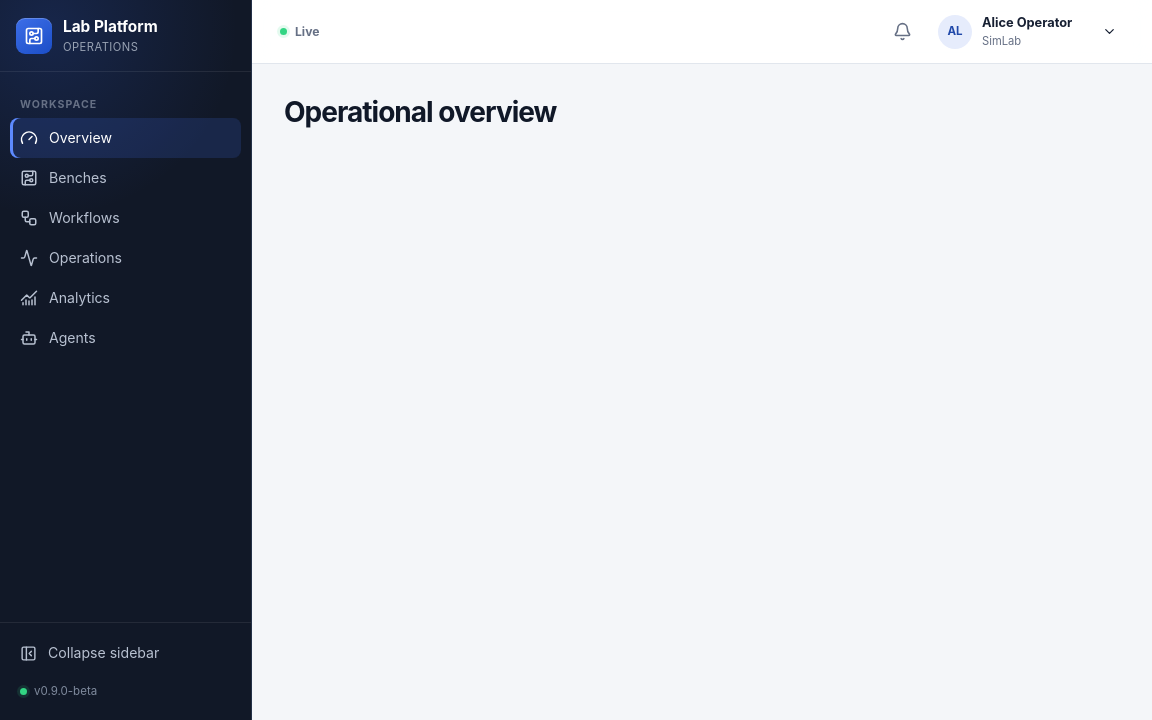
Test case: core workflow accessibility acceptance › exposes shell landmarks, a skip link, permission-aware navigation, and live status
Expected: the navigation bar is shown, [10,98,241,347]
Expected: the link "Benches" is shown, [20,169,107,187]
Click the button "AL Alice Operator SimLab".
click(1028, 32)  # box [931,9,1124,54]
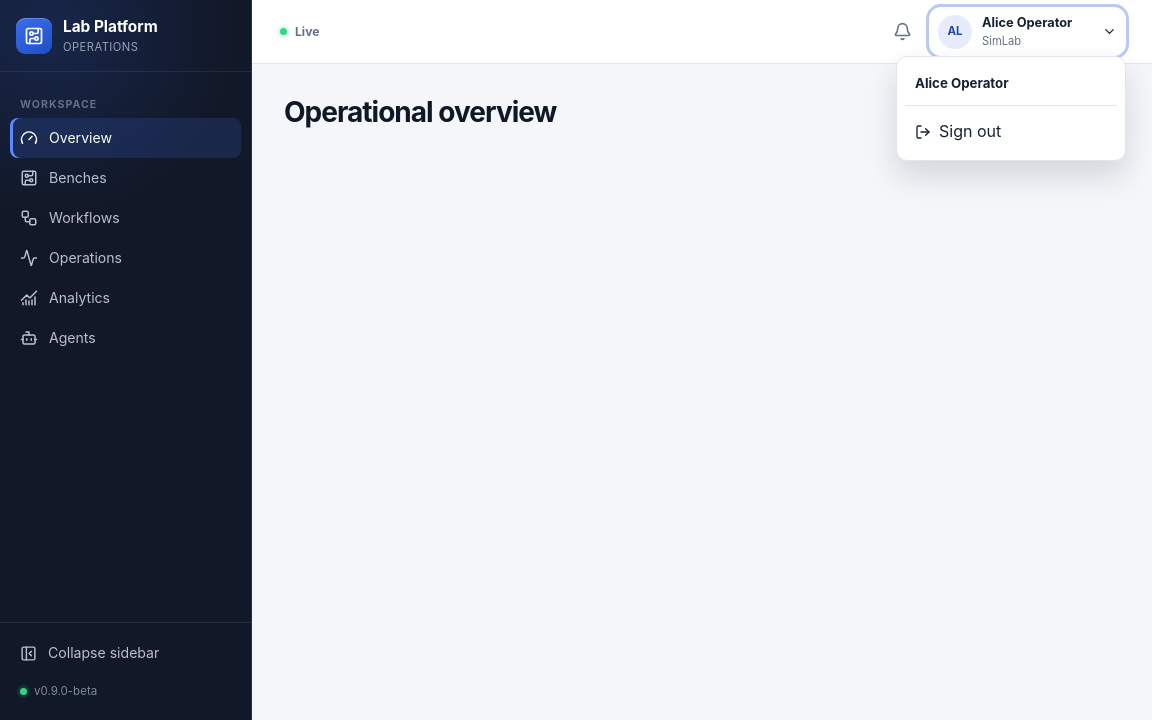
Expected: the button "Sign out" is shown, [905,111,1117,152]
